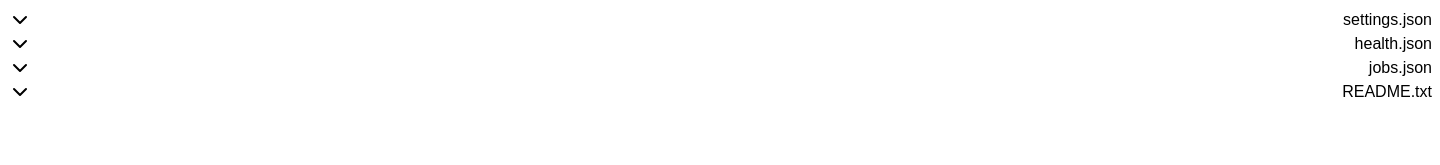
Test: Accordion › controlled by a parent that keeps the ids
Click the button "health.json" at (1393, 44), box [8,32,1432,56]
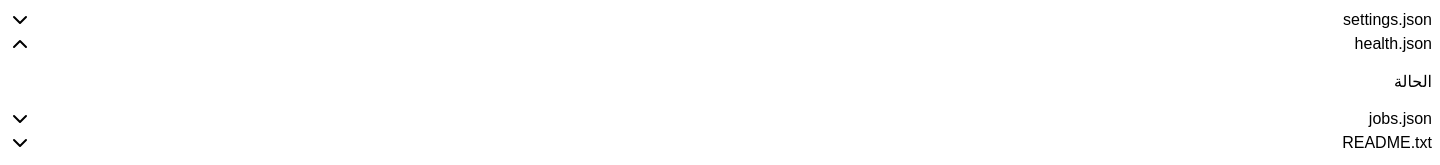
Expected: the button "health.json" is expanded, [8,32,1432,56]
